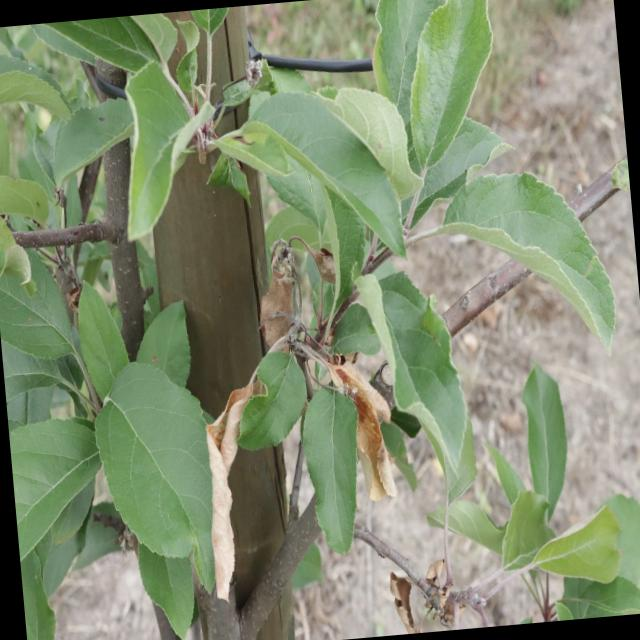-FireBlight-: (254, 224, 340, 354), (326, 354, 400, 494)
